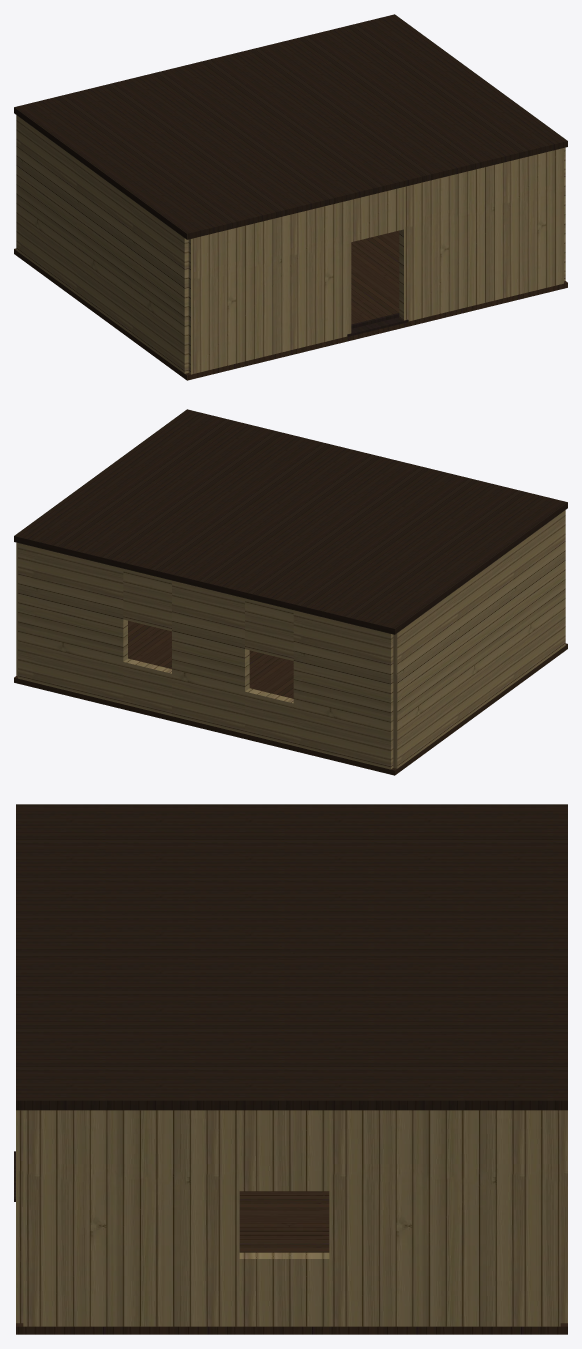
The model's file is int_inn_01.glb.
3 renders of one model, top to bottom at view 1: azimuth 30°, elevation 25°; view 2: azimuth 150°, elevation 25°; view 3: azimuth 270°, elevation 25°, orthographic. The views are drawn at different scales.
Visible parts, largest first — view 1: int_inn_01; view 2: int_inn_01; view 3: int_inn_01.
Boxes of the visible parts, left/top/right/bottom form: int_inn_01: left=14, top=14, right=567, bottom=380; int_inn_01: left=14, top=409, right=567, bottom=775; int_inn_01: left=14, top=804, right=567, bottom=1334.
Bounding box in the file's own units: 9.4 × 3.46 × 7.43.
6 materials, 5 textured.
